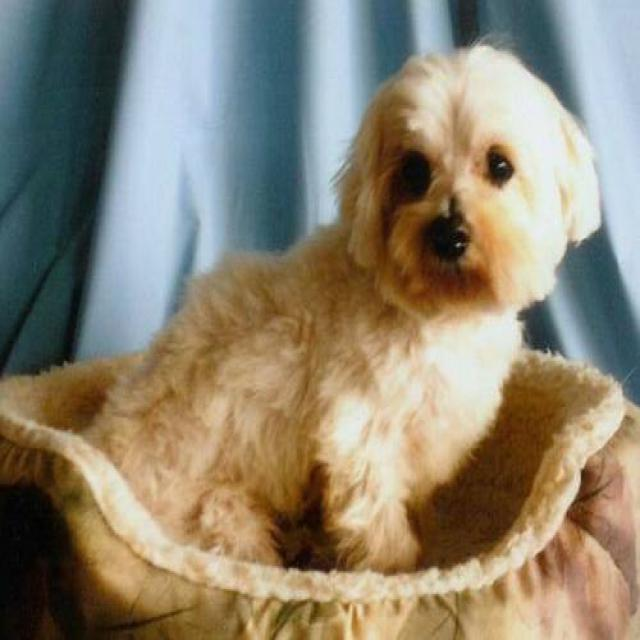dog: (0, 36, 603, 579)
